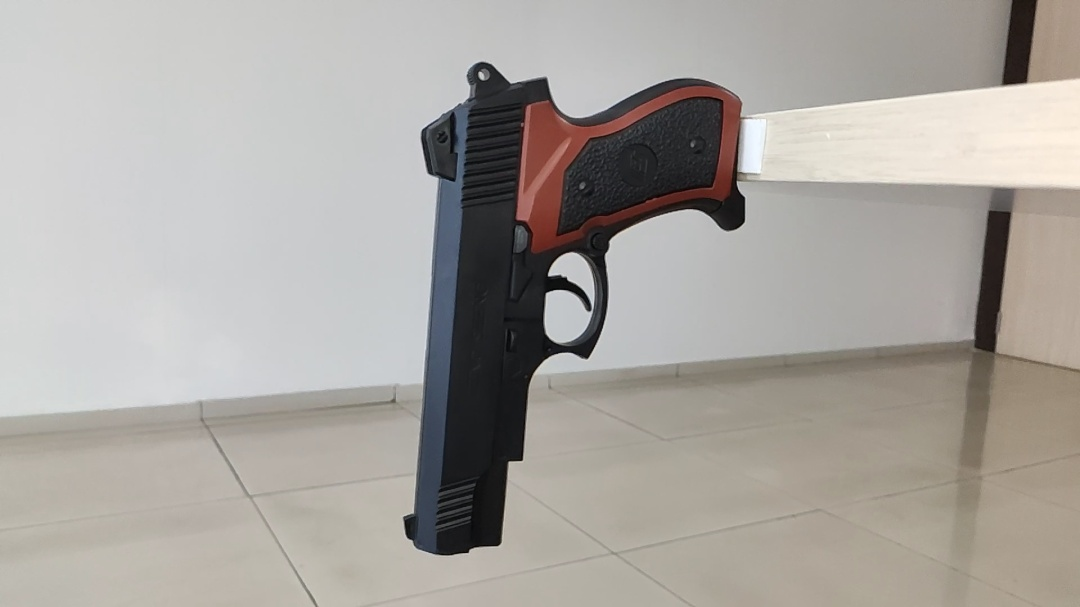gun: (328, 234, 450, 372)
